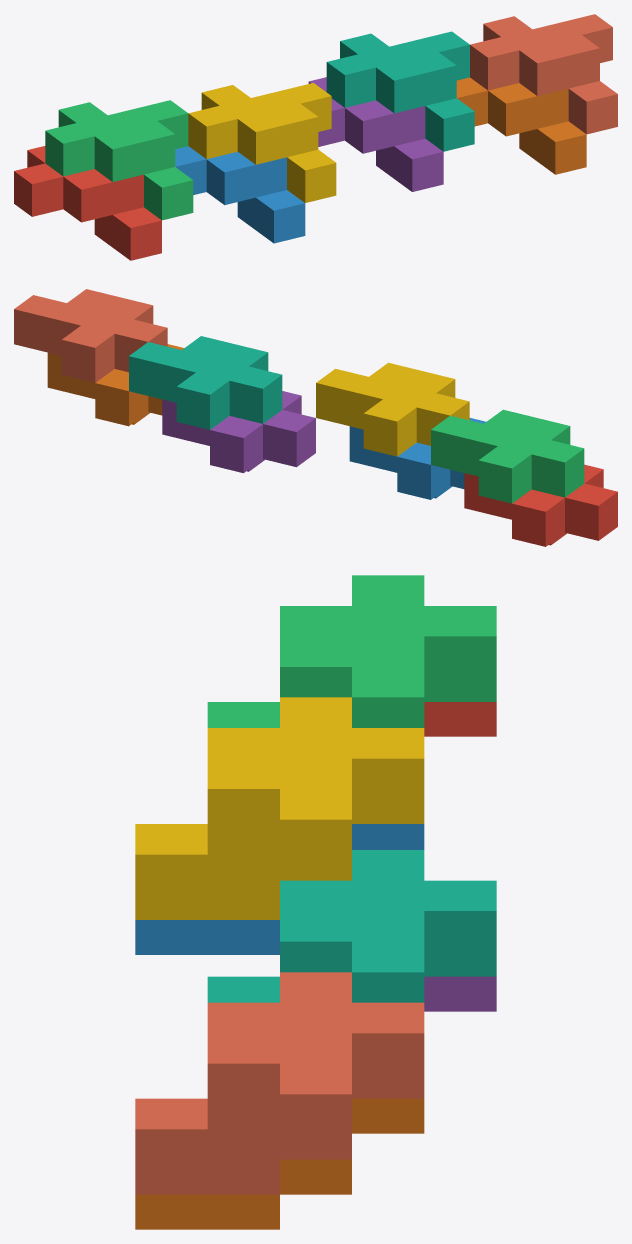
File: tiling.obj
The picture shows the model from 3 angles, top to bottom: view 1: azimuth 30°, elevation 25°; view 2: azimuth 150°, elevation 25°; view 3: azimuth 270°, elevation 25°; orthographic projection. The views are drawn at different scales.
Parts seen in each view (by area): view 1: copy_1_domain_3, copy_1_domain_4, copy_1_domain_7, copy_1_domain_8, copy_1_domain_1, copy_1_domain_6, copy_1_domain_2, copy_1_domain_5; view 2: copy_1_domain_3, copy_1_domain_7, copy_1_domain_8, copy_1_domain_4, copy_1_domain_1, copy_1_domain_5, copy_1_domain_2, copy_1_domain_6; view 3: copy_1_domain_8, copy_1_domain_4, copy_1_domain_7, copy_1_domain_3, copy_1_domain_6, copy_1_domain_2, copy_1_domain_5, copy_1_domain_1.
Part boxes in pixels (x1,y1,x2,y2): copy_1_domain_3: (45,100,193,220); copy_1_domain_4: (188,83,336,202); copy_1_domain_7: (326,31,474,151); copy_1_domain_8: (470,14,617,134); copy_1_domain_1: (14,146,161,260); copy_1_domain_6: (456,77,586,174); copy_1_domain_2: (175,146,305,243); copy_1_domain_5: (308,77,443,191); copy_1_domain_3: (431,409,584,503); copy_1_domain_7: (129,336,282,429); copy_1_domain_8: (14,289,167,382); copy_1_domain_4: (316,362,469,456); copy_1_domain_1: (464,464,617,546); copy_1_domain_5: (162,391,315,473); copy_1_domain_2: (349,418,485,499); copy_1_domain_6: (47,344,183,426); copy_1_domain_8: (135,972,424,1194); copy_1_domain_4: (135,697,424,919); copy_1_domain_7: (207,850,496,1002); copy_1_domain_3: (207,575,496,727); copy_1_domain_6: (135,1098,424,1229); copy_1_domain_2: (135,824,424,954); copy_1_domain_5: (424,976,496,1011); copy_1_domain_1: (424,702,496,736).
Size of the model in its own units: 18 by 3 by 5.
